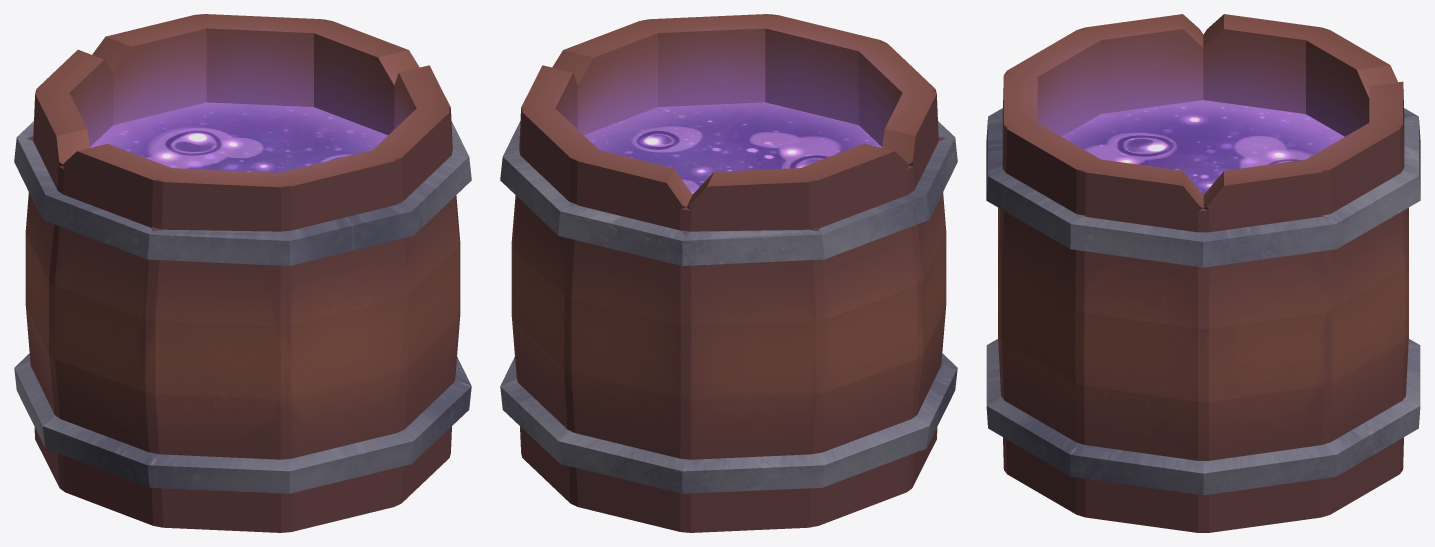
The model's file is barrel final 1.fbx.
The picture shows the model from 3 angles, left to right: view 1: azimuth 30°, elevation 25°; view 2: azimuth 150°, elevation 25°; view 3: azimuth 270°, elevation 25°; orthographic projection.
Parts seen in each view (by area): view 1: pCylinder1; view 2: pCylinder1; view 3: pCylinder1.
Part boxes in pixels (box(x1,y1,x2,y2)): pCylinder1: box(14, 14, 471, 532); pCylinder1: box(500, 14, 957, 532); pCylinder1: box(986, 14, 1420, 532).
Bounding box in the file's own units: 2.28 × 1.88 × 2.14.
1 material, 1 textured.
